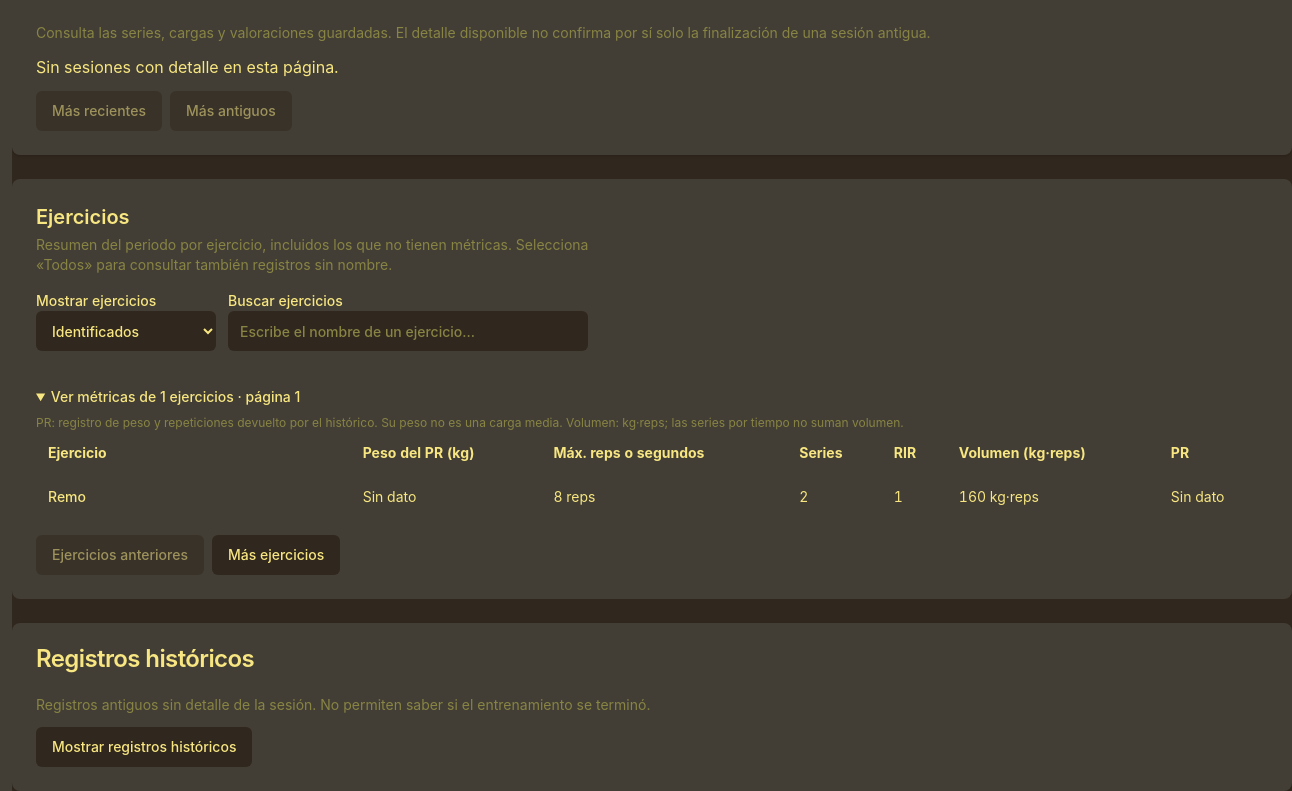
Scenario: TrainingProgressPanel › pages overview exercises without changing global indicators or the independent load picker
The image size is (1292, 791).
(page scrolled)
expect the row "Remo Sin dato 8 reps 2 1 160 kg·reps Sin dato" is shown: met, box [36,475,1268,519]
Click the button "Más ejercicios": (276,555) [212,535,340,575]
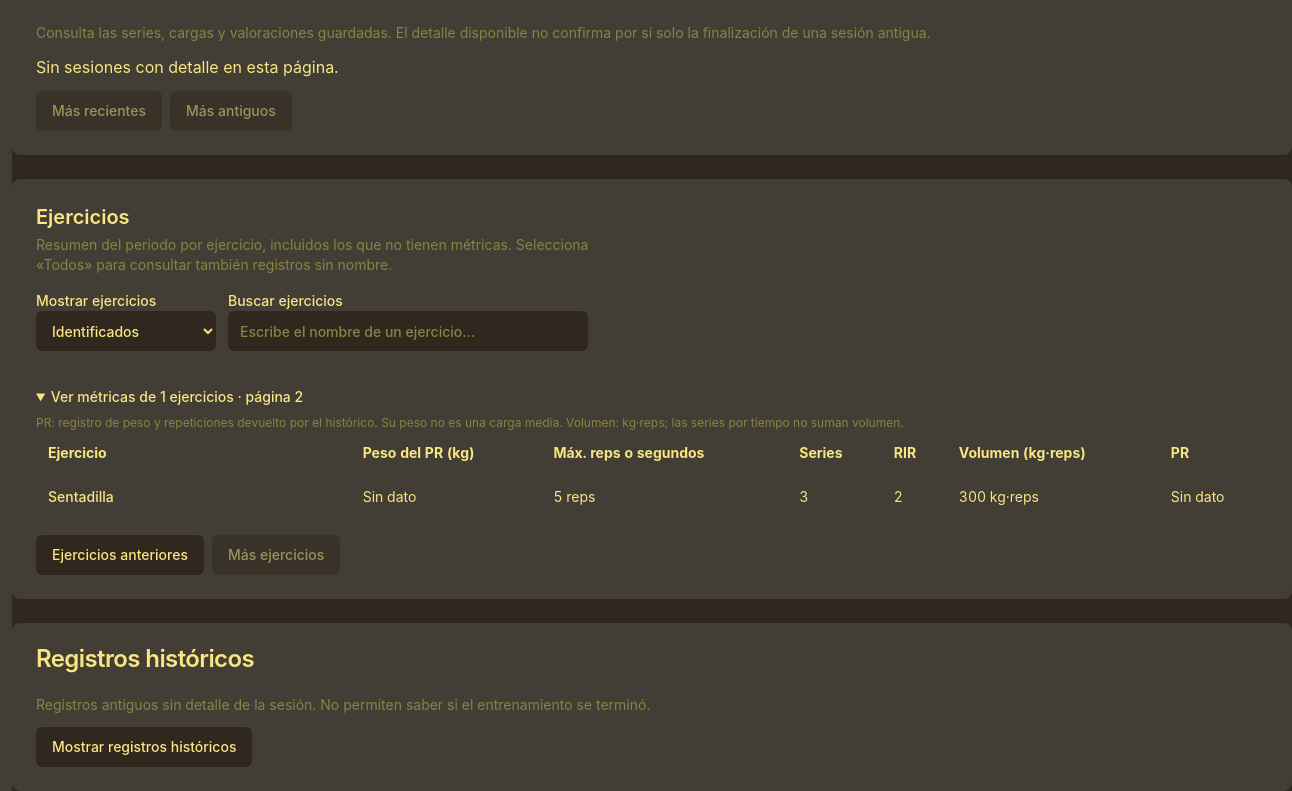
expect the row "Sentadilla Sin dato 5 reps 3 2 300 kg·reps Sin dato" is shown: met, box [36,475,1268,519]
expect the column heading "Remo" is gone: met
Click the button "Ejercicios anteriores": (120,555) [36,535,204,575]
(page scrolled)
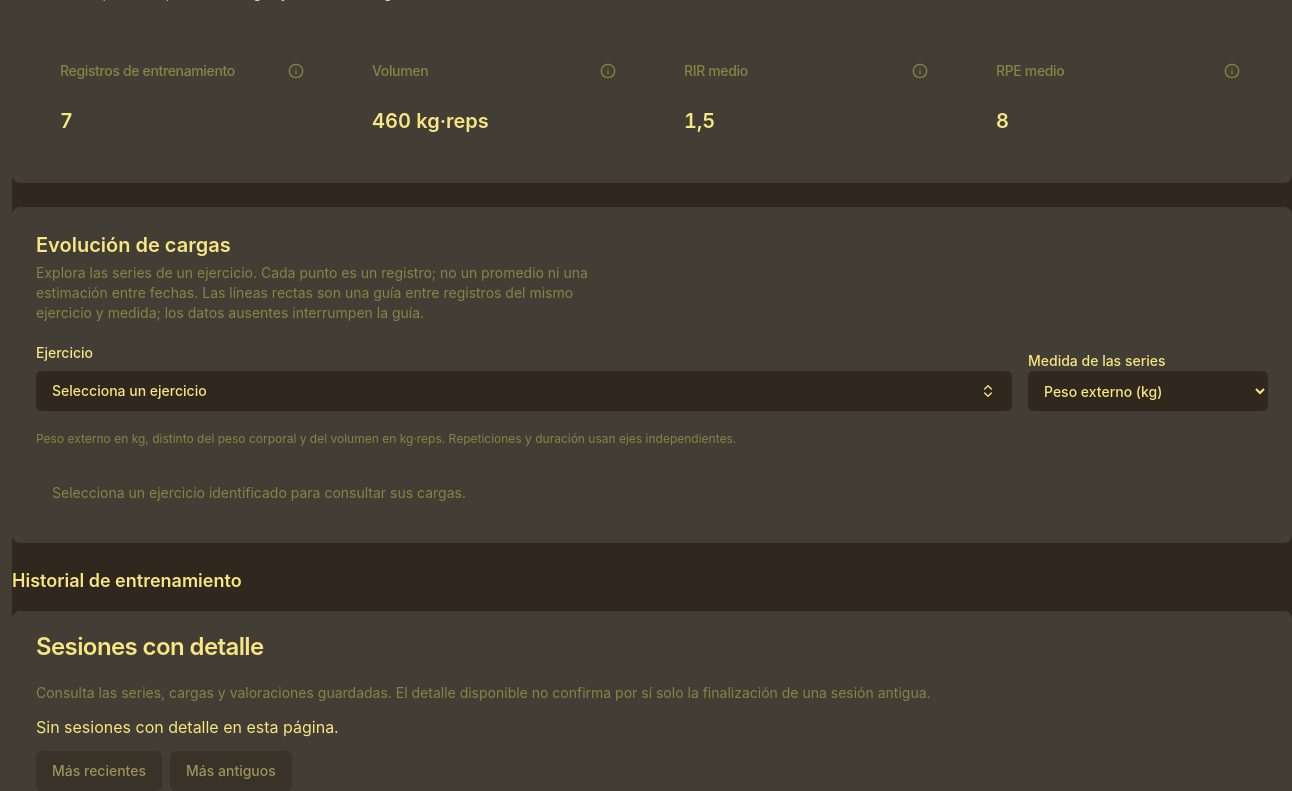
expect the dropdown named "Ejercicio para evolución de cargas" reads "Selecciona un ejercicio": met, box [36,371,1012,411]
expect the column heading "Sentadilla" is gone: met
